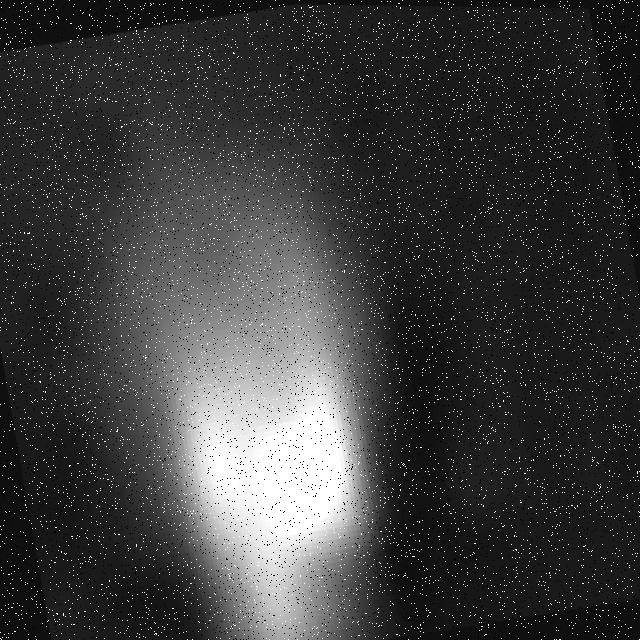person: (86, 88, 414, 640)
